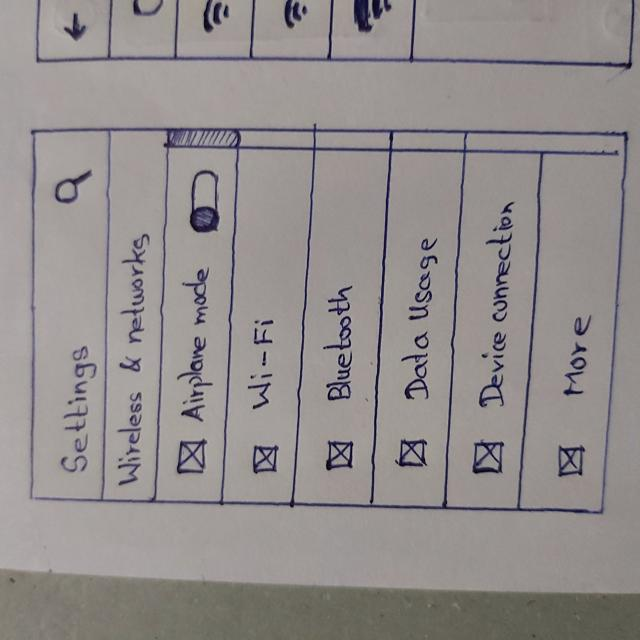ActionButton: (33, 161, 110, 223)
AppBar: (31, 130, 105, 500)
Icon: (49, 168, 93, 205)
Image: (249, 442, 281, 477), (473, 440, 504, 476), (177, 440, 206, 477), (328, 438, 355, 472), (557, 445, 585, 477), (401, 440, 424, 469)
Layout: (516, 154, 628, 512), (290, 148, 390, 506), (445, 150, 543, 508), (218, 147, 317, 501), (371, 148, 464, 508), (152, 146, 235, 505)
ListView: (153, 147, 625, 510)
MainLayout: (25, 122, 634, 519)
ScrollBar: (167, 126, 626, 158)
Switch: (189, 167, 222, 235)
TextView: (118, 232, 148, 487), (478, 196, 510, 410), (183, 271, 209, 428), (63, 347, 93, 476), (326, 284, 357, 406), (409, 236, 431, 405), (559, 308, 594, 399), (248, 314, 275, 417)
VerticalListView: (151, 148, 624, 508)
